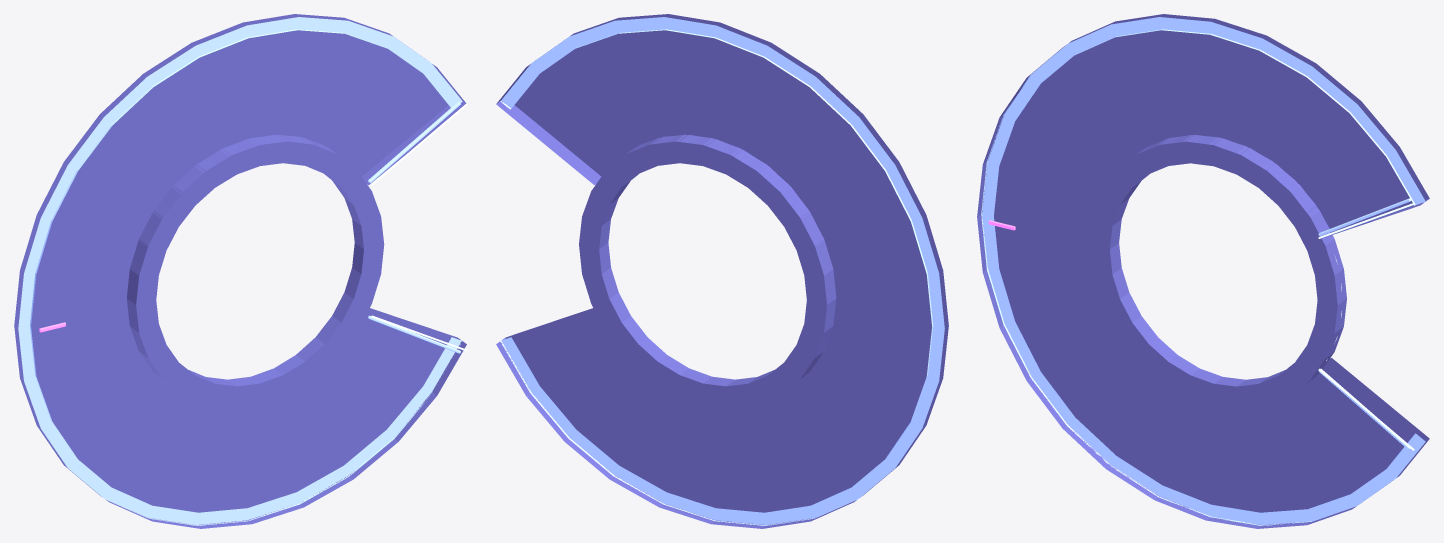
File: prism-panel-fun4-low.glb
3 renders of one model, left to right at view 1: azimuth 30°, elevation 25°; view 2: azimuth 150°, elevation 25°; view 3: azimuth 330°, elevation 25°, orthographic.
Visible parts, largest first — view 1: RENDER_PANEL_SHELL, RENDER_PANEL_FRAME, RENDER_PANEL_SIGNAL; view 2: RENDER_PANEL_SHELL, RENDER_PANEL_FRAME; view 3: RENDER_PANEL_SHELL, RENDER_PANEL_FRAME, RENDER_PANEL_SIGNAL.
Part boxes in pixels (x1,y1,x2,y2): RENDER_PANEL_SHELL: (14,14,466,528); RENDER_PANEL_FRAME: (18,17,462,525); RENDER_PANEL_SIGNAL: (371,103,467,351); RENDER_PANEL_SHELL: (496,14,948,528); RENDER_PANEL_FRAME: (500,17,944,525); RENDER_PANEL_SHELL: (977,14,1429,528); RENDER_PANEL_FRAME: (981,17,1425,525); RENDER_PANEL_SIGNAL: (1318,203,1414,450).
Size of what is drawn, in the model's own units: 38.43 by 40.98 by 1.95.
